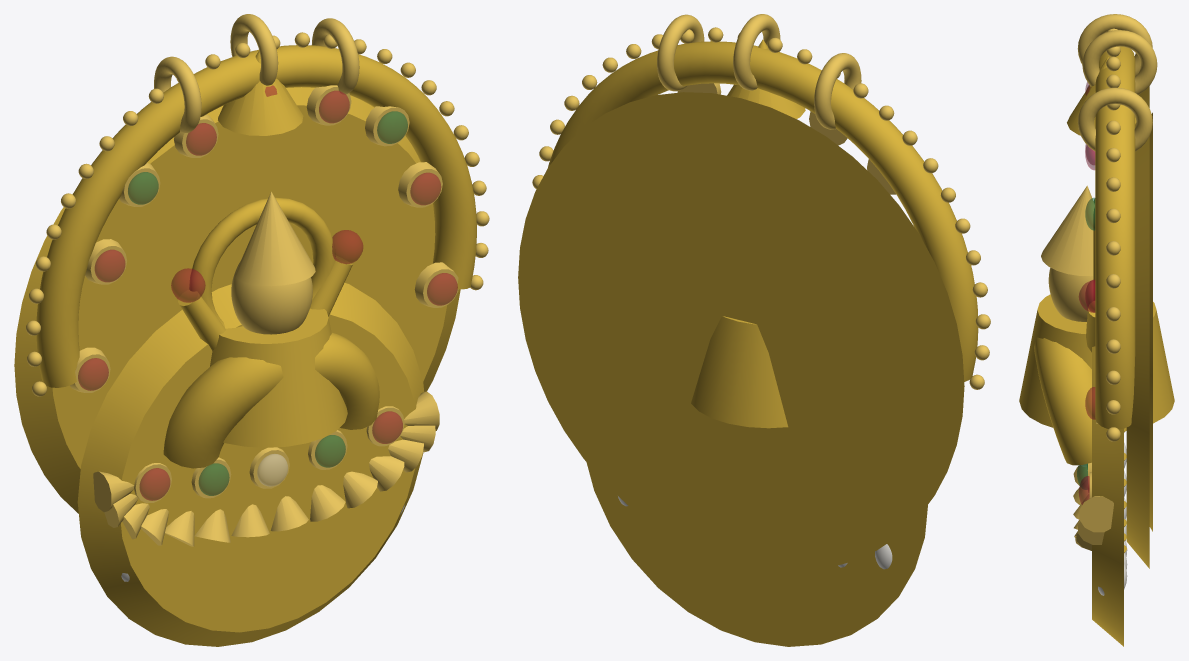
Rendered from lakshmi-temple-pendant.glb.
3 views of the same model, side by side, from view 1: azimuth 30°, elevation 25°; view 2: azimuth 150°, elevation 25°; view 3: azimuth 270°, elevation 25° (orthographic). The views are drawn at different scales.
Visible parts, largest first — view 1: Lotus_Plinth_Base, Backplate_Bezel_Base, Arch_Moulding_Outer, Goddess_Padmasana_Legs, Goddess_Torso, Goddess_Prabhavali_Halo, Goddess_Crown_Kiritamukuta, Goddess_Head, Crest_Finial_Cone, Bail_Left_Physical, Bail_Center_Physical, Bail_Right_Physical (+41 smaller); view 2: Reverse_Hollow_Cavity, Backplate_Bezel_Base, Lotus_Plinth_Base, Arch_Moulding_Outer, Goddess_Torso, Bail_Left_Physical, Bail_Center_Physical, Bail_Right_Physical, Crest_Finial_Cone; view 3: Arch_Moulding_Outer, Backplate_Bezel_Base, Lotus_Plinth_Base, Goddess_Padmasana_Legs, Goddess_Torso, Goddess_Crown_Kiritamukuta, Bail_Right_Physical, Bail_Center_Physical, Goddess_Head, Reverse_Hollow_Cavity, Bail_Left_Physical, Lotus_Petal_14 (+10 smaller).
Part boxes in pixels (x1,y1,x2,y2): Lotus_Plinth_Base: [77, 282, 424, 646]; Backplate_Bezel_Base: [14, 87, 460, 513]; Arch_Moulding_Outer: [36, 45, 476, 387]; Goddess_Padmasana_Legs: [163, 333, 379, 468]; Goddess_Torso: [210, 308, 347, 447]; Goddess_Prabhavali_Halo: [189, 197, 335, 327]; Goddess_Crown_Kiritamukuta: [236, 191, 315, 286]; Goddess_Head: [231, 261, 312, 334]; Crest_Finial_Cone: [218, 51, 303, 135]; Bail_Left_Physical: [154, 56, 201, 132]; Bail_Center_Physical: [230, 14, 278, 85]; Bail_Right_Physical: [312, 18, 359, 94]; Reverse_Hollow_Cavity: [549, 129, 929, 536]; Backplate_Bezel_Base: [518, 92, 964, 571]; Lotus_Plinth_Base: [586, 462, 927, 646]; Arch_Moulding_Outer: [548, 41, 978, 381]; Goddess_Torso: [691, 316, 788, 428]; Bail_Left_Physical: [814, 53, 861, 129]; Bail_Center_Physical: [733, 14, 780, 90]; Bail_Right_Physical: [657, 14, 704, 91]; Crest_Finial_Cone: [727, 39, 805, 118]; Arch_Moulding_Outer: [1095, 46, 1135, 429]; Backplate_Bezel_Base: [1126, 86, 1149, 568]; Lotus_Plinth_Base: [1092, 346, 1123, 646]; Goddess_Padmasana_Legs: [1034, 337, 1091, 465]; Goddess_Torso: [1019, 294, 1174, 431]; Goddess_Crown_Kiritamukuta: [1041, 185, 1094, 276]; Bail_Right_Physical: [1077, 87, 1152, 151]; Bail_Center_Physical: [1082, 30, 1157, 94]; Goddess_Head: [1048, 267, 1093, 321]; Reverse_Hollow_Cavity: [1149, 112, 1152, 531]; Bail_Left_Physical: [1077, 14, 1152, 76]; Lotus_Petal_14: [1079, 496, 1113, 532].
Bounding box in the file's own units: 0.5557 × 0.721 × 0.17.
